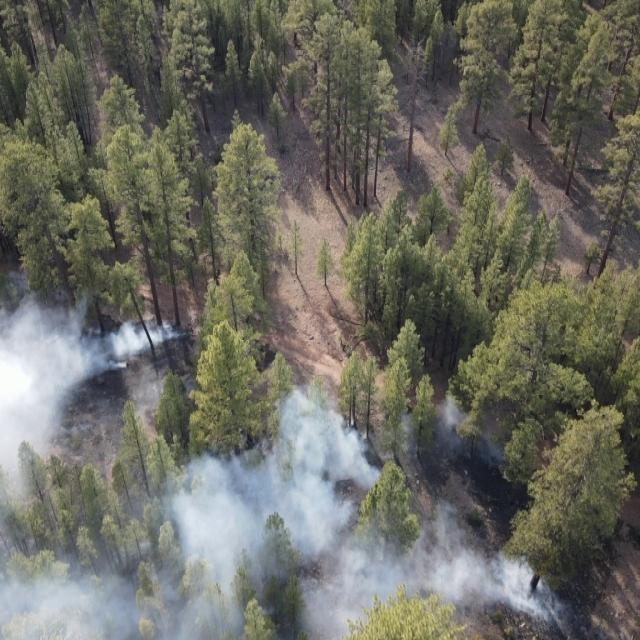fire: (502, 583, 510, 597)
smoke: (273, 384, 384, 640), (0, 499, 172, 640), (172, 440, 274, 640), (0, 369, 101, 499), (384, 498, 494, 611), (0, 312, 194, 368), (384, 395, 514, 474), (0, 272, 97, 312), (495, 551, 538, 640), (537, 577, 564, 640)
